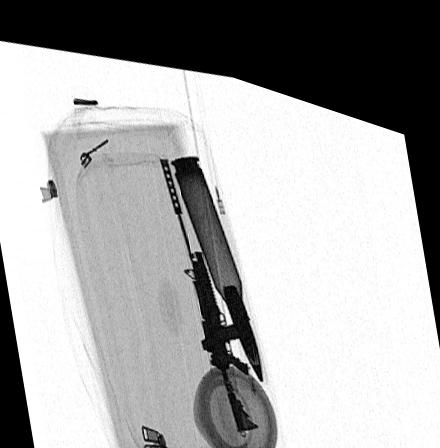Bullet: (171, 142, 262, 366)
Gun: (158, 145, 257, 419)
